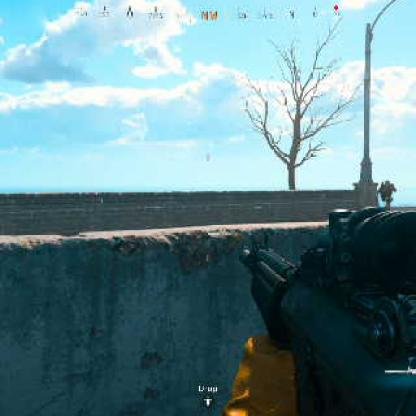enemy: (377, 178, 395, 208)
